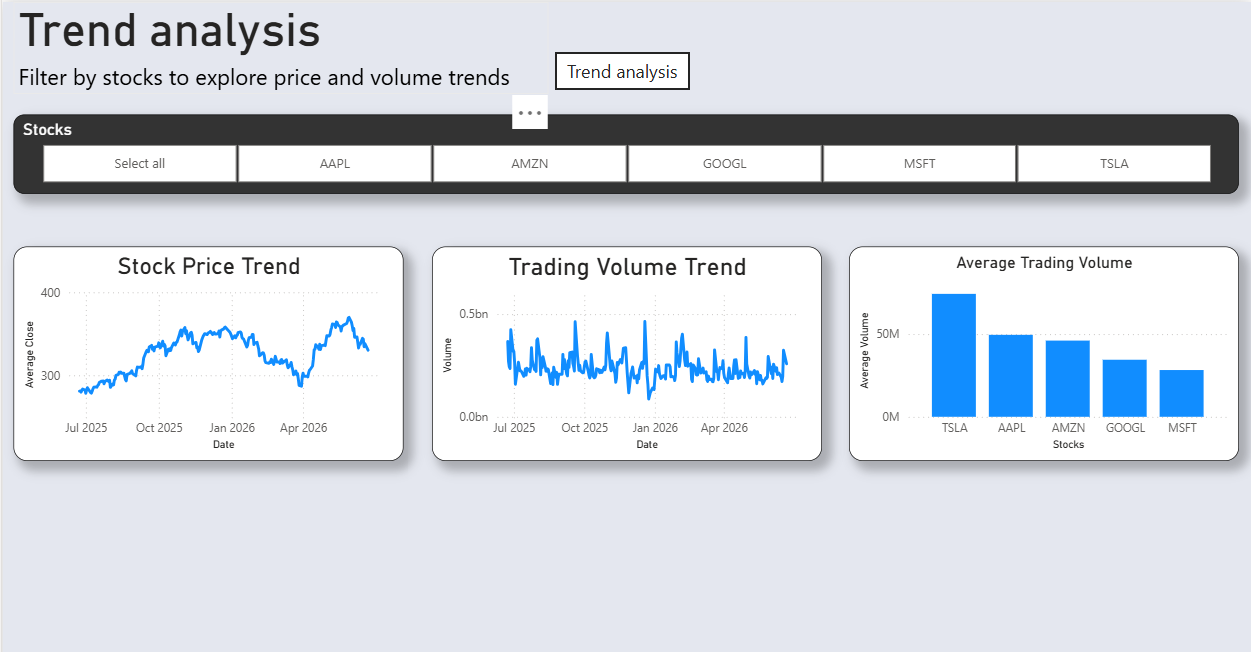

What the dashboard file says about the page in this screenshot:
{"tool":"powerbi","page":{"name":"Trend Analysis","canvas":[1280,720],"ordinal":1},"visuals":[{"type":"slicer","title":"Stocks","fields":{"Values":["stock_summary_report.Ticker"]},"box":[10.8,115.4,1256.9,81.5],"z":0},{"type":"lineChart","title":"Stock Price Trend","fields":{"Y":["Avg(powerbi_stock_dataset.Close)"],"Category":["powerbi_stock_dataset.Date"]},"box":[10.8,250.8,400,220],"z":1000},{"type":"lineChart","title":"Trading Volume Trend","fields":{"Y":["Sum(powerbi_stock_dataset.Volume)"],"Category":["powerbi_stock_dataset.Date"]},"box":[440,250.8,400,220],"z":2000},{"type":"clusteredColumnChart","title":"Average Trading Volume","fields":{"Category":["stock_summary_report.Ticker"],"Y":["Max(stock_summary_report.Average Volume)"]},"box":[867.7,250.8,400,220],"z":2001},{"type":"textbox","title":"Trend analysis","box":[10.8,0,549.2,93.8],"z":2002}]}

Visuals, with their boxes on the page's 1280x720 design canvas (x1, y1, x2, y2). These are canvas units, not pixel positions in the 1251x652 screenshot, which may show the page scaled, cropped or inside an application window:
"Stocks" slicer: box=[11, 115, 1268, 197]
"Stock Price Trend" lineChart: box=[11, 251, 411, 471]
"Trading Volume Trend" lineChart: box=[440, 251, 840, 471]
"Average Trading Volume" clusteredColumnChart: box=[868, 251, 1268, 471]
"Trend analysis" textbox: box=[11, 0, 560, 94]
